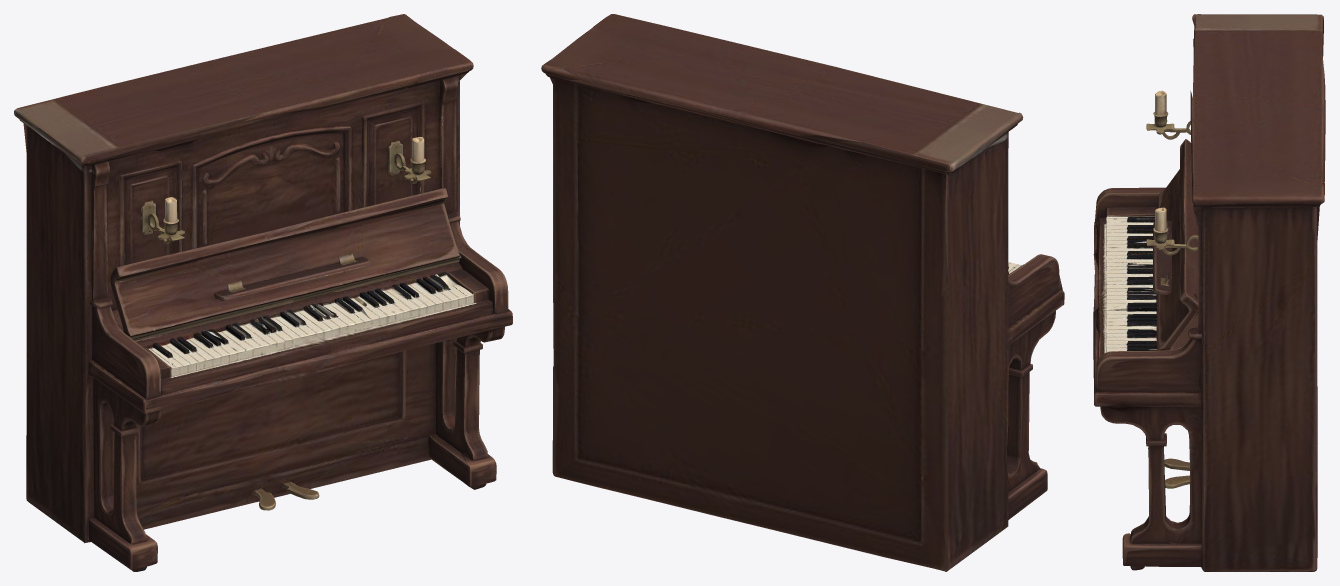
Rendered from piano.glb.
3 renders of one model, left to right at view 1: azimuth 30°, elevation 25°; view 2: azimuth 150°, elevation 25°; view 3: azimuth 270°, elevation 25°, orthographic. The views are drawn at different scales.
Size of the model in its own units: 1.9 by 1.84 by 1.01.
Materials: 1 (1 with a texture image).
